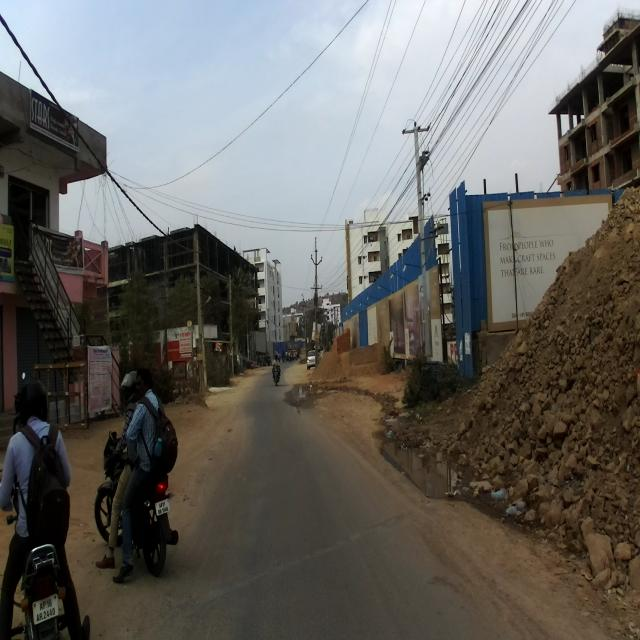motorcycle ahead at: (94, 436, 184, 570), (0, 539, 94, 640)
